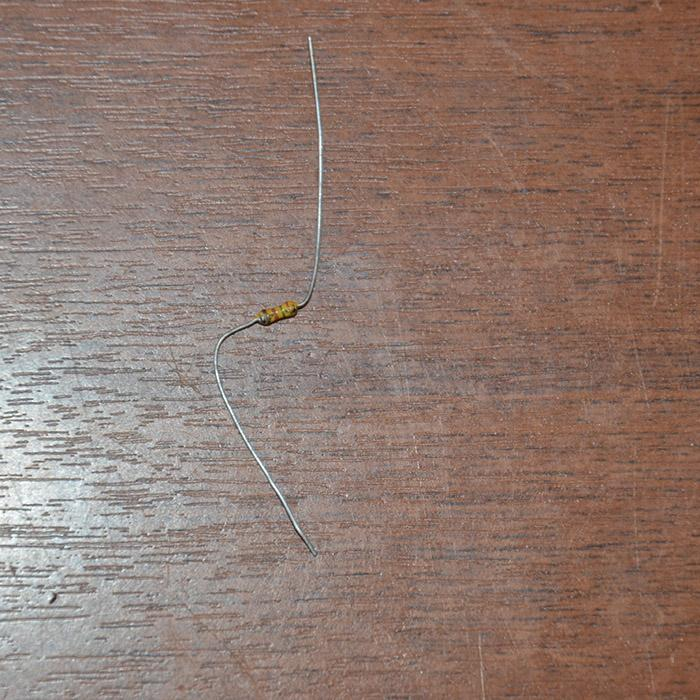resistor: (255, 300, 299, 326)
